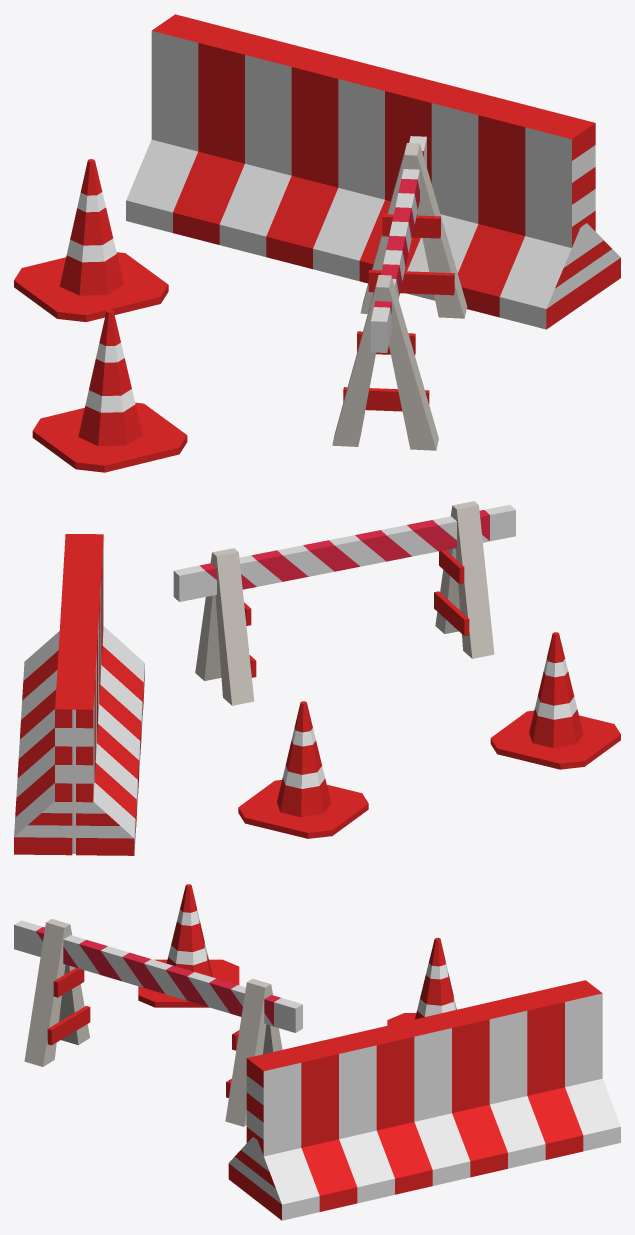
The model's file is construction_center.glb.
3 views of the same model, one above another, from view 1: azimuth 30°, elevation 25°; view 2: azimuth 150°, elevation 25°; view 3: azimuth 270°, elevation 25° (orthographic). The views are drawn at different scales.
Parts seen in each view (by area): view 1: Cube.011, Cube.008, Cube.009, Plane.006, Cube.001, Plane, Plane.001, Cone.001, Cone, Cube.002, Cube, Cube.007 (+3 smaller); view 2: Cube.011, Cube.008, Plane.006, Cube.002, Cube, Cube.001, Cube.009, Cube.007, Plane, Plane.001, Cone.001, Cone (+2 smaller); view 3: Cube.008, Cube.011, Plane.006, Cube, Cube.001, Cube.002, Cube.007, Cone, Cone.001, Plane, Cube.006, Cube.005.
Part boxes in pixels (bbox=[...]): Cube.011: bbox=[173, 43, 620, 329]; Cube.008: bbox=[126, 31, 620, 329]; Cube.009: bbox=[126, 139, 571, 308]; Plane.006: bbox=[152, 14, 594, 139]; Cube.001: bbox=[332, 275, 438, 450]; Plane: bbox=[32, 402, 187, 472]; Plane.001: bbox=[14, 252, 168, 321]; Cone.001: bbox=[59, 159, 123, 295]; Cone: bbox=[78, 309, 142, 446]; Cube.002: bbox=[360, 143, 467, 318]; Cube: bbox=[371, 136, 426, 352]; Cube.007: bbox=[374, 151, 423, 314]; Cube.011: bbox=[14, 556, 143, 855]; Cube.008: bbox=[14, 540, 144, 854]; Plane.006: bbox=[55, 534, 103, 709]; Cube.002: bbox=[195, 548, 254, 705]; Cube: bbox=[173, 505, 515, 601]; Cube.001: bbox=[435, 501, 494, 658]; Cube.009: bbox=[93, 626, 144, 837]; Cube.007: bbox=[199, 510, 489, 589]; Plane: bbox=[490, 710, 620, 769]; Plane.001: bbox=[238, 780, 368, 838]; Cone.001: bbox=[277, 701, 331, 817]; Cone: bbox=[529, 632, 583, 747]; Cube.008: bbox=[229, 993, 620, 1220]; Cube.011: bbox=[228, 1002, 583, 1220]; Plane.006: bbox=[247, 980, 602, 1070]; Cube: bbox=[14, 920, 302, 1032]; Cube.001: bbox=[24, 919, 89, 1066]; Cube.002: bbox=[225, 978, 282, 1126]; Cube.007: bbox=[36, 927, 280, 1025]; Cone: bbox=[166, 884, 212, 977]; Cone.001: bbox=[415, 937, 456, 1019]; Plane: bbox=[138, 959, 239, 1007]; Cube.006: bbox=[47, 1006, 90, 1045]; Cube.005: bbox=[53, 968, 84, 997].
Bounding box in the file's own units: 1.12 × 0.3319 × 1.2.
